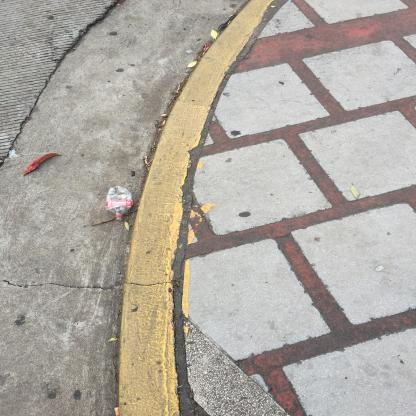plastik: (106, 187, 135, 223)
